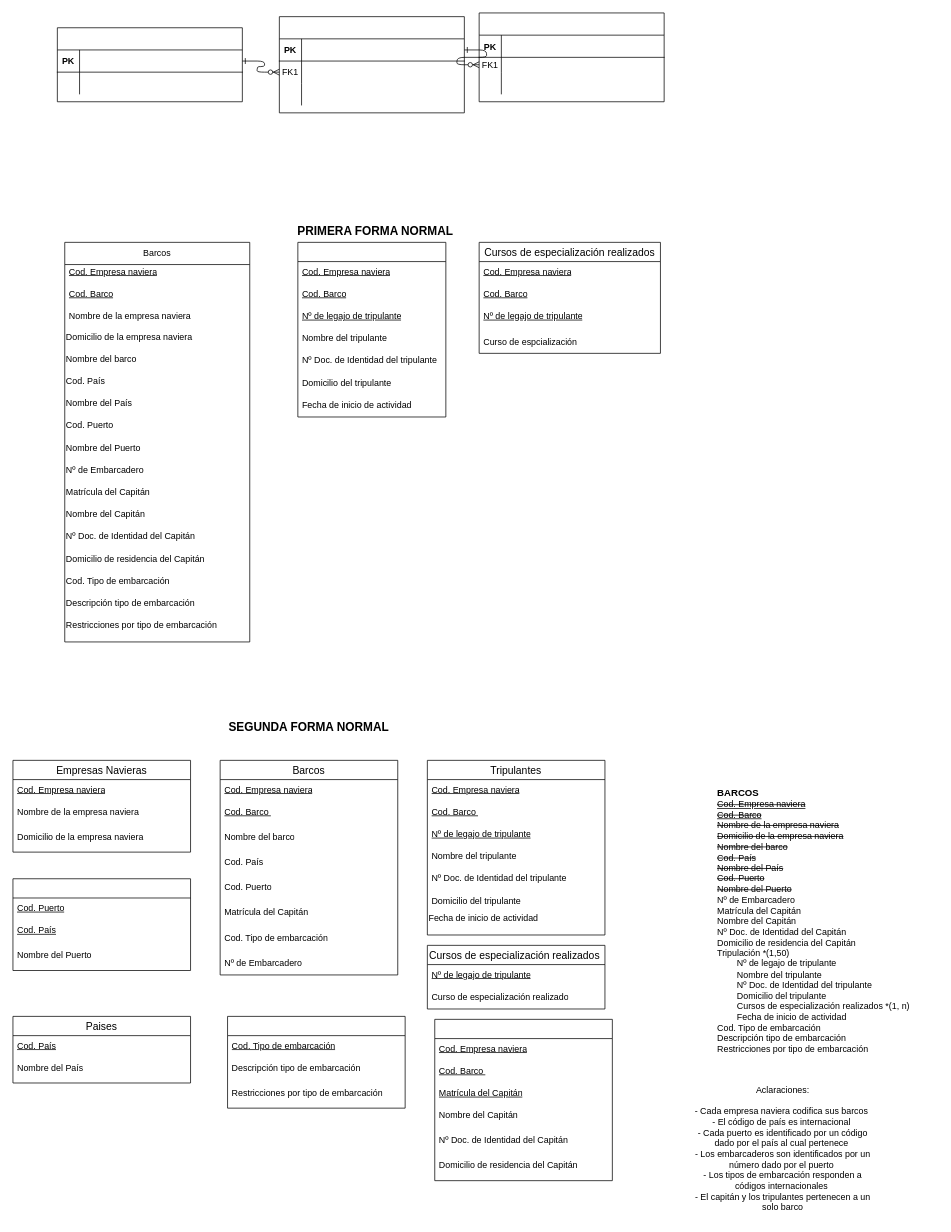
Some shapes in this 951 by 1232 pixel diagram are drawn without their labels. The box of each missing label's shape, as (x1, y1, x2, y2) in pixels:
Capitan: (434, 1019, 612, 1181)
Puertos: (12, 878, 191, 971)
Tipo Embarcacion: (227, 1016, 405, 1108)
Tripulación: (297, 242, 446, 417)
